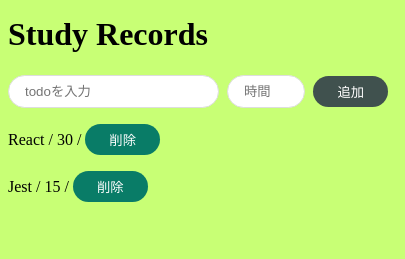
Test: Study Records › 入力をしないで登録を押すとエラーが表示される
The width and height of the screenshot is (405, 259).
Expected: the heading "Study Records" is shown, 8,16 -> 208,52
Click the button "追加" at (351, 91), box 314,76 -> 388,107
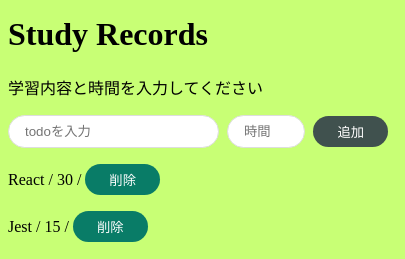
Result: the message reads "学習内容と時間を入力してください" at 8,80 -> 263,97
